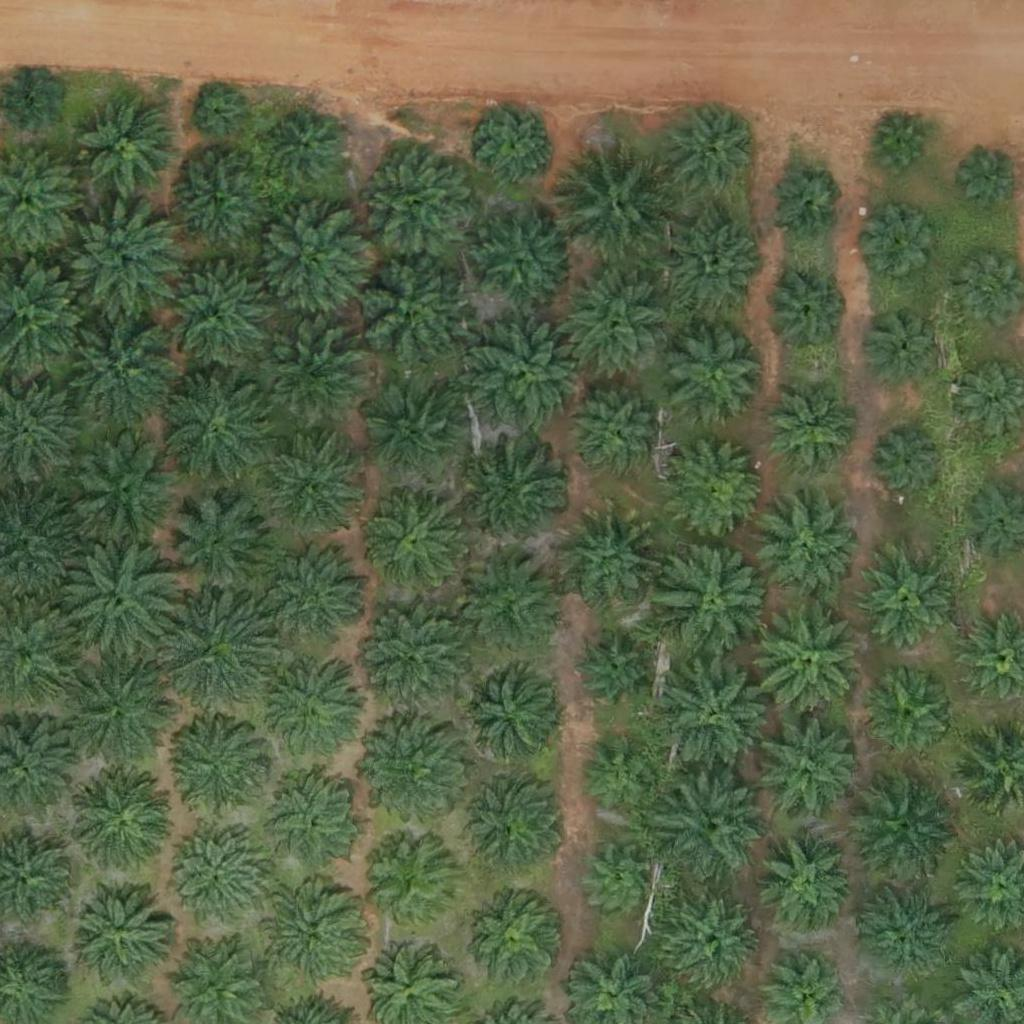Kelapa_Sawit: (52, 303, 177, 429), (62, 534, 187, 660), (157, 365, 282, 491), (152, 590, 277, 716), (357, 138, 482, 264), (345, 249, 470, 375), (350, 596, 475, 722), (465, 313, 590, 439), (556, 139, 681, 265), (552, 262, 677, 388), (654, 538, 779, 664), (654, 651, 779, 777), (746, 598, 871, 724), (58, 648, 183, 774), (153, 257, 278, 382), (66, 203, 179, 316), (67, 435, 180, 548), (162, 491, 275, 604), (261, 545, 374, 658), (656, 768, 769, 881), (353, 720, 466, 833), (249, 653, 362, 766), (847, 771, 959, 885), (255, 206, 367, 319), (256, 318, 368, 431), (77, 97, 177, 198), (166, 151, 266, 252), (365, 385, 465, 486), (366, 486, 466, 587), (473, 441, 573, 542), (461, 546, 561, 647), (564, 509, 664, 610), (755, 831, 855, 932), (661, 889, 761, 990), (457, 663, 557, 764), (459, 775, 559, 876), (467, 887, 567, 988), (362, 832, 462, 933), (264, 773, 364, 874), (262, 884, 362, 985), (165, 717, 265, 818), (471, 210, 571, 310), (661, 102, 761, 202), (665, 218, 765, 318), (665, 325, 765, 425), (667, 442, 767, 542), (758, 498, 858, 598), (852, 549, 952, 649), (760, 717, 860, 817), (167, 826, 267, 926), (70, 775, 170, 875), (70, 885, 170, 985), (268, 441, 356, 529), (767, 388, 855, 476), (865, 673, 953, 761), (859, 890, 947, 978), (762, 267, 849, 355), (573, 392, 660, 480), (866, 306, 941, 382), (871, 425, 946, 501), (478, 107, 553, 183), (766, 167, 841, 243), (864, 209, 939, 284), (583, 842, 658, 917), (582, 738, 657, 813), (269, 110, 344, 185), (575, 635, 650, 710), (869, 115, 931, 178), (959, 148, 1021, 211), (194, 89, 244, 139)
